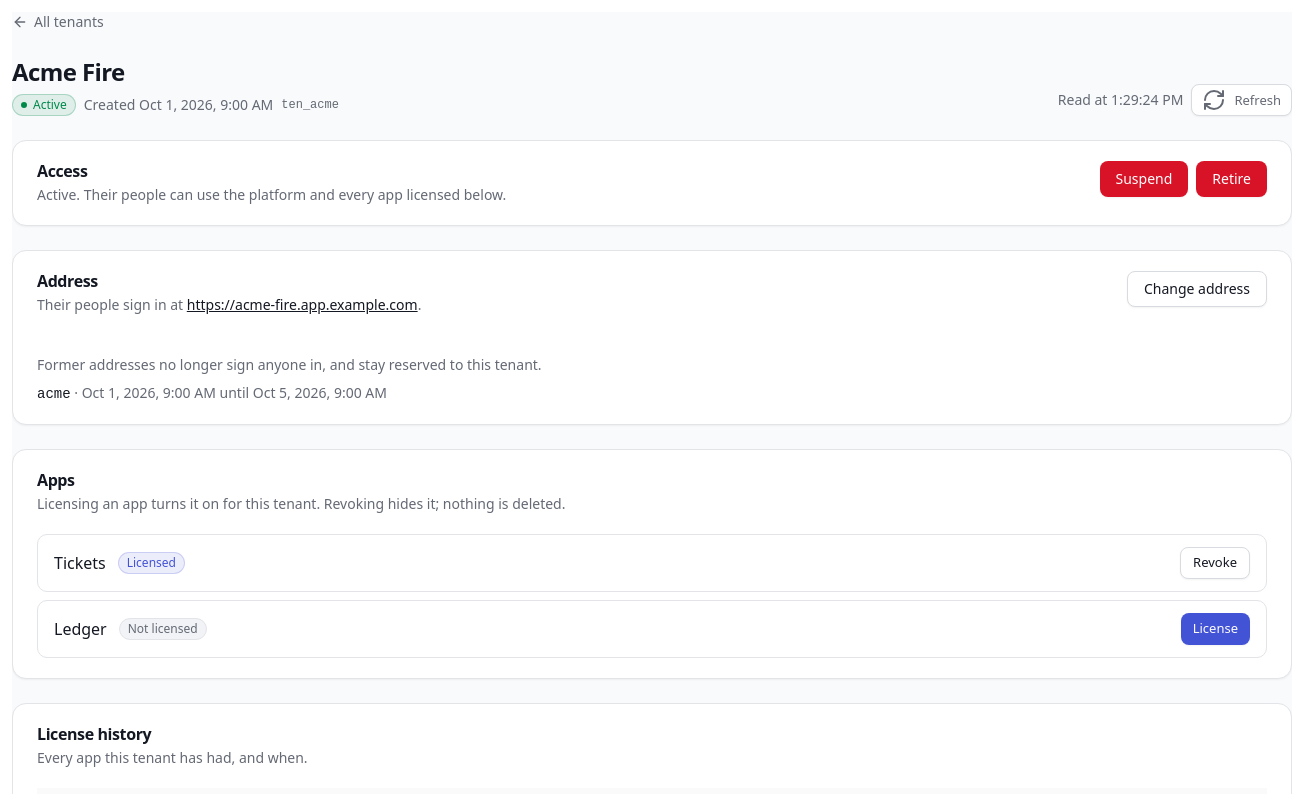
Test: licensing › treats a failure with no problem code as unknown
Click the button with aria-label "License Ledger" at (1215, 629), box [1181,613,1250,645]
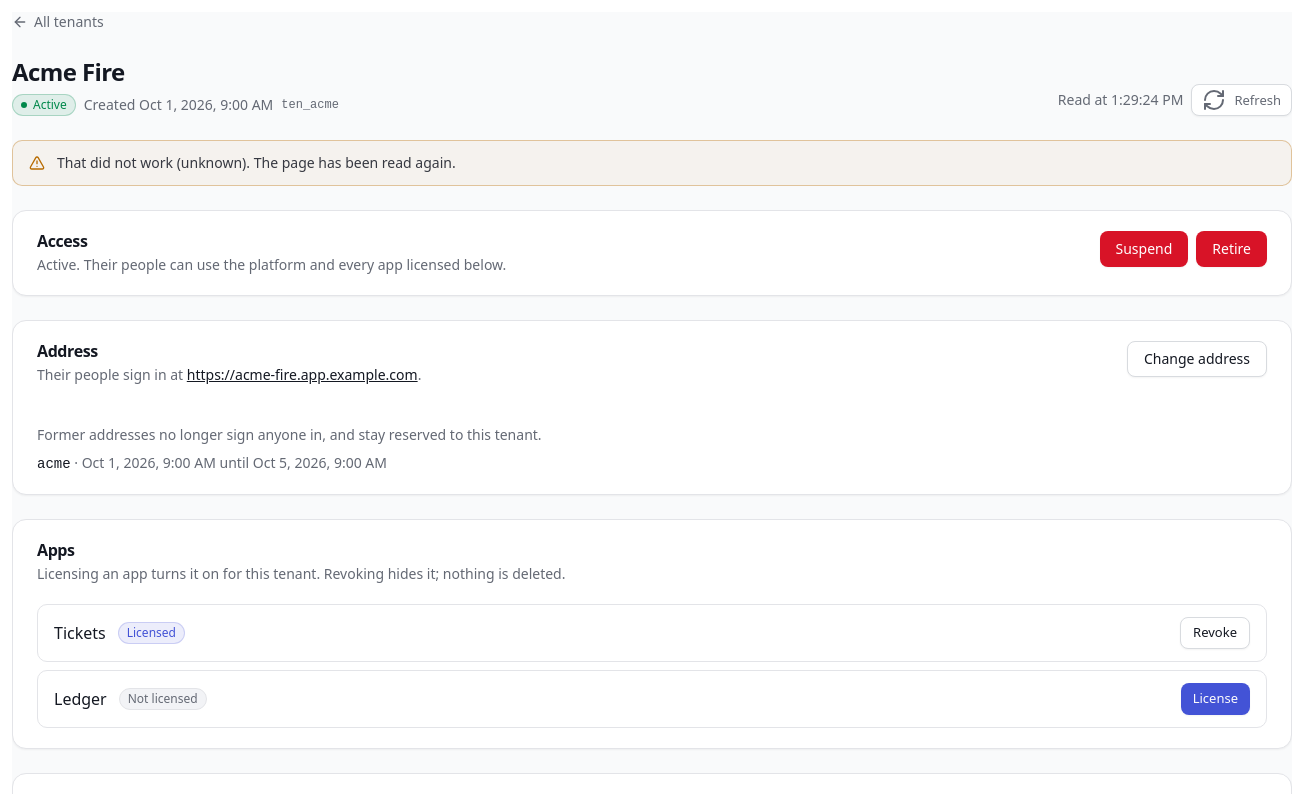
Expected: the text "That did not work (unknown). The page has been read again." is shown, [57,153,456,173]
